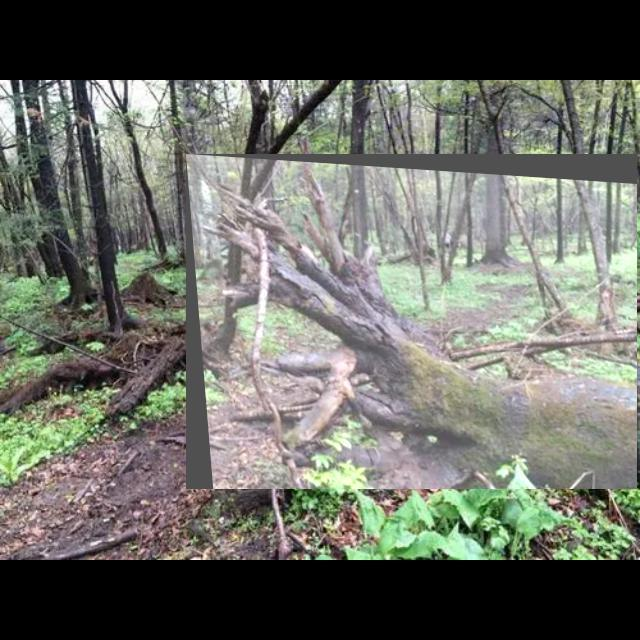fallen_tree: (186, 154, 638, 490)
